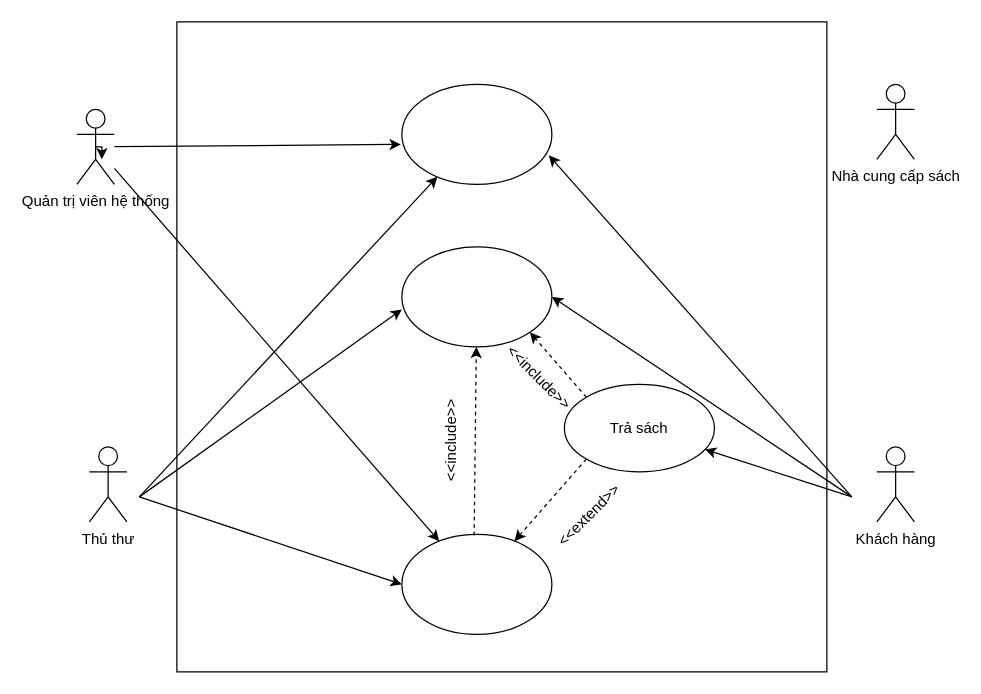
Some shapes in this 981 by 694 pixel diagram are drawn without their labels. The box of each missing label's shape, as (x1, y1, x2, y2) in pixels:
Cập nhật sách: (401, 533, 552, 634)
Mượn sách: (401, 246, 552, 347)
Tìm kiếm sách: (401, 83, 552, 184)
